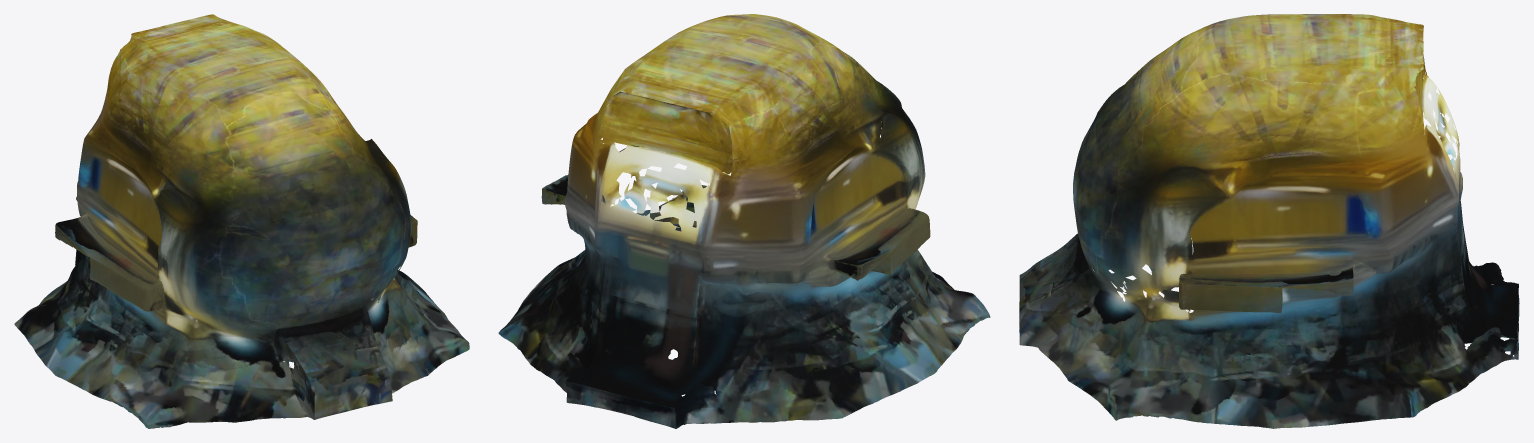
The model's file is makerforge.glb.
The picture shows the model from 3 angles, left to right: view 1: azimuth 30°, elevation 25°; view 2: azimuth 150°, elevation 25°; view 3: azimuth 270°, elevation 25°; orthographic projection. The views are drawn at different scales.
Parts seen in each view (by area): view 1: geometry_0.496; view 2: geometry_0.496; view 3: geometry_0.496.
Part boxes in pixels (x1=…): geometry_0.496: x1=14, y1=14, x2=469, y2=428; geometry_0.496: x1=498, y1=14, x2=990, y2=428; geometry_0.496: x1=1019, y1=14, x2=1519, y2=428.
Bounding box in the file's own units: 2.74 × 1.94 × 2.94.
1 material, 1 textured.
